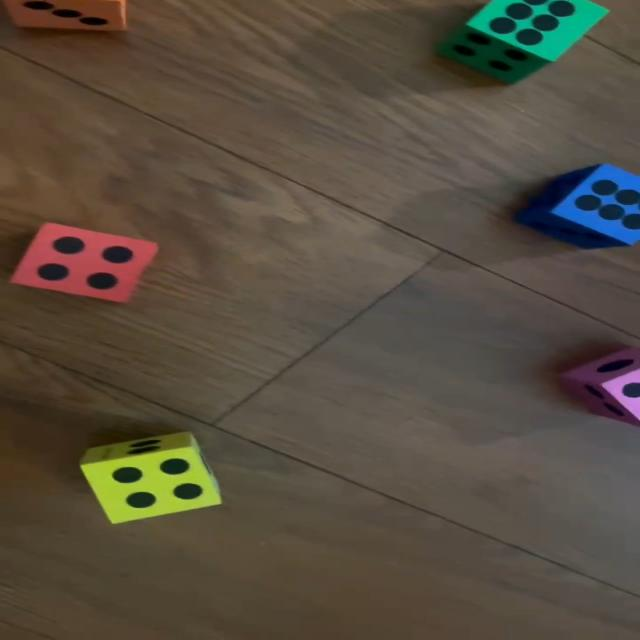blue_block: (518, 162, 640, 250)
red_block: (12, 222, 157, 302)
